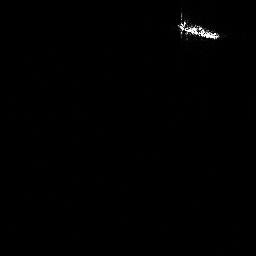ship: (175, 16, 221, 42)
